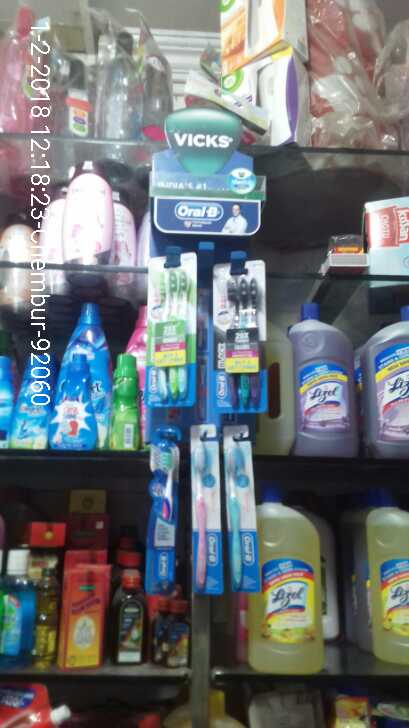oralb: (139, 440, 186, 594), (145, 261, 191, 406), (226, 444, 261, 594), (212, 276, 247, 416), (193, 443, 218, 590)
